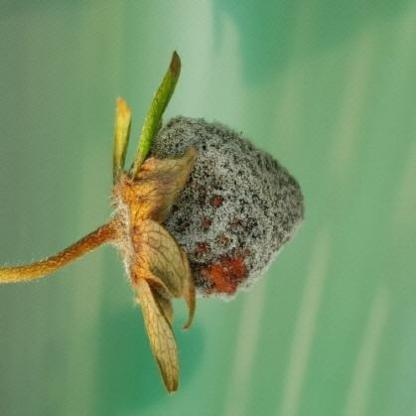Strawberry_Gray_Mold: (112, 116, 308, 395)
